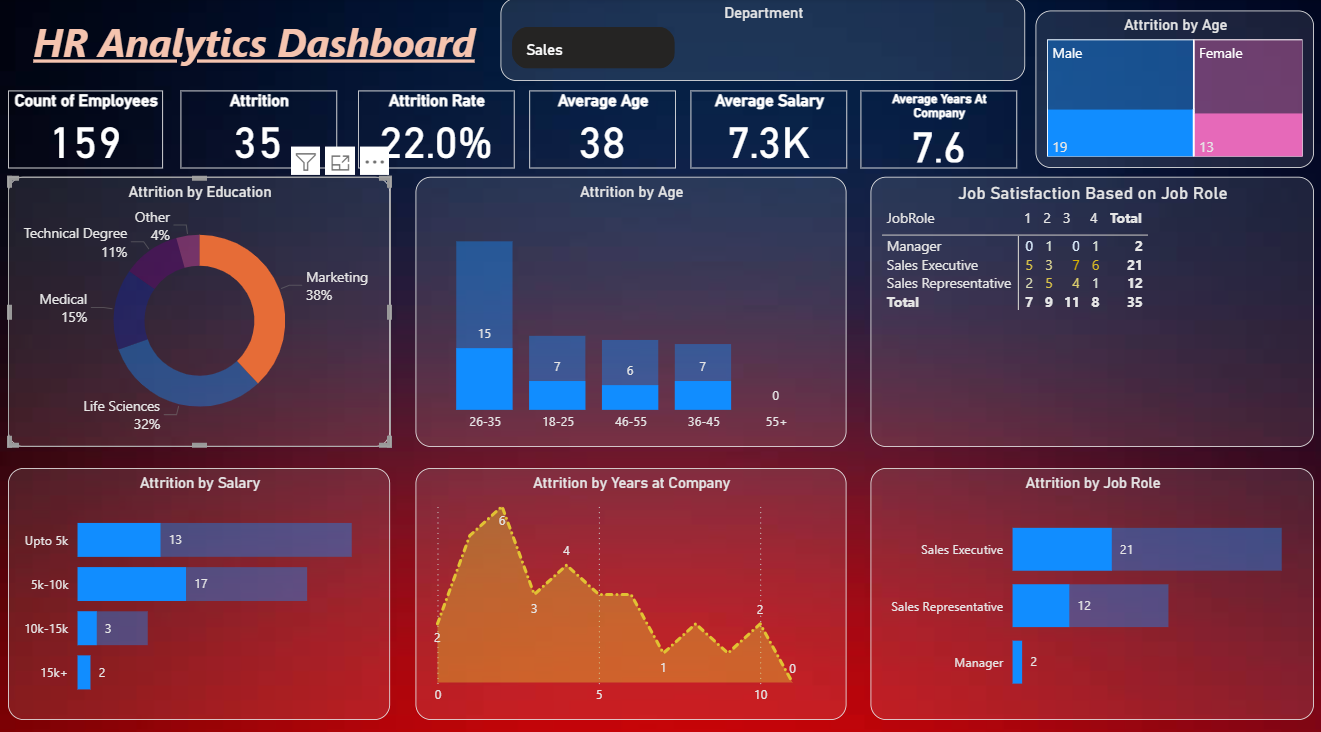

This screenshot's page, from the dashboard's own definition file:
{"tool":"powerbi","page":{"name":"Page 1","canvas":[1280,720],"ordinal":0},"visuals":[{"type":"card","title":"Count of Employees","fields":{"Values":["CountNonNull(HR_Analytics (1).EmpID)"]},"box":[9.6,89.2,149.6,75.5],"z":0},{"type":"card","title":"Attrition","fields":{"Values":["Sum(HR_Analytics (1).AttritionCount)"]},"box":[175.6,89.2,150.9,75.5],"z":1000},{"type":"card","title":"Attrition Rate","fields":{"Values":["HR_Analytics (1).AttritionRate"]},"box":[347.2,89.2,150.9,75.5],"z":2000},{"type":"card","title":"Average Age","fields":{"Values":["Avg(HR_Analytics (1).Age)"]},"box":[513.2,89.2,141.3,75.5],"z":3000},{"type":"card","title":"Average Years At Company","fields":{"Values":["Avg(HR_Analytics (1).YearsAtCompany)"]},"box":[832.9,89.2,150.9,75.5],"z":4000},{"type":"card","title":"Average Salary","fields":{"Values":["Avg(HR_Analytics (1).MonthlyIncome)"]},"box":[668.3,89.2,150.9,75.5],"z":5000},{"type":"donutChart","title":"Attrition by Education","fields":{"Category":["HR_Analytics (1).EducationField"],"Y":["Sum(HR_Analytics (1).AttritionCount)"]},"box":[9.6,172.9,369.1,260.7],"z":6000},{"type":"columnChart","title":"Attrition by Age","fields":{"Category":["HR_Analytics (1).AgeGroup"],"Y":["Sum(HR_Analytics (1).AttritionCount)"]},"box":[403.4,172.9,415.8,260.7],"z":7000},{"type":"pivotTable","title":"Job Satisfaction Based on Job Role","fields":{"Rows":["HR_Analytics (1).JobRole"],"Columns":["HR_Analytics (1).JobSatisfaction"],"Values":["Sum(HR_Analytics (1).AttritionCount)"]},"box":[842.1,172.5,428.3,260.6],"z":8000},{"type":"barChart","title":"Attrition by Salary ","fields":{"Category":["HR_Analytics (1).SalarySlab"],"Y":["Sum(HR_Analytics (1).AttritionCount)"]},"box":[9.6,454.2,369.1,242.9],"z":9000},{"type":"barChart","title":"Attrition by Job Role","fields":{"Category":["HR_Analytics (1).JobRole"],"Y":["Sum(HR_Analytics (1).AttritionCount)"]},"box":[842.5,454.2,428.1,242.9],"z":10000},{"type":"areaChart","title":"Attrition by Years at Company","fields":{"Category":["HR_Analytics (1).YearsAtCompany"],"Y":["Sum(HR_Analytics (1).AttritionCount)"]},"box":[403.4,454.2,415.8,242.9],"z":11000},{"type":"treemap","title":"Attrition by Age","fields":{"Group":["HR_Analytics (1).Gender"],"Values":["Sum(HR_Analytics (1).AttritionCount)"]},"box":[1001.7,12.3,269,152.3],"z":12000},{"type":"advancedSlicerVisual","fields":{"Values":["HR_Analytics (1).Department"]},"box":[485,0,506.7,79.6],"z":13000},{"type":"textbox","box":[9.6,12.3,474.8,67.2],"z":14000}]}

Visuals, with their boxes in screenshot pixels (x1, y1, x2, y2), scaled from the page's 1280x720 canvas onto the 1321x732 screenshot:
"Count of Employees" card: 10,91,164,167
"Attrition" card: 181,91,337,167
"Attrition Rate" card: 358,91,514,167
"Average Age" card: 530,91,675,167
"Average Years At Company" card: 860,91,1015,167
"Average Salary" card: 690,91,845,167
"Attrition by Education" donutChart: 10,176,391,441
"Attrition by Age" columnChart: 416,176,845,441
"Job Satisfaction Based on Job Role" pivotTable: 869,175,1311,440
"Attrition by Salary " barChart: 10,462,391,709
"Attrition by Job Role" barChart: 869,462,1311,709
"Attrition by Years at Company" areaChart: 416,462,845,709
"Attrition by Age" treemap: 1034,13,1311,167
advancedSlicerVisual - HR_Analytics (1).Department: 501,0,1023,81
textbox: 10,13,500,81
